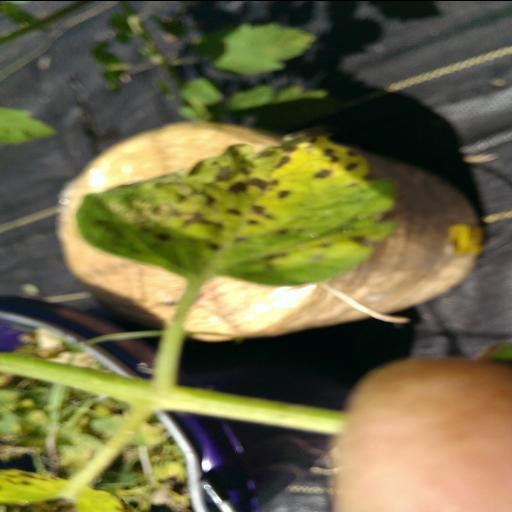disease_tomato: (70, 125, 404, 290)
